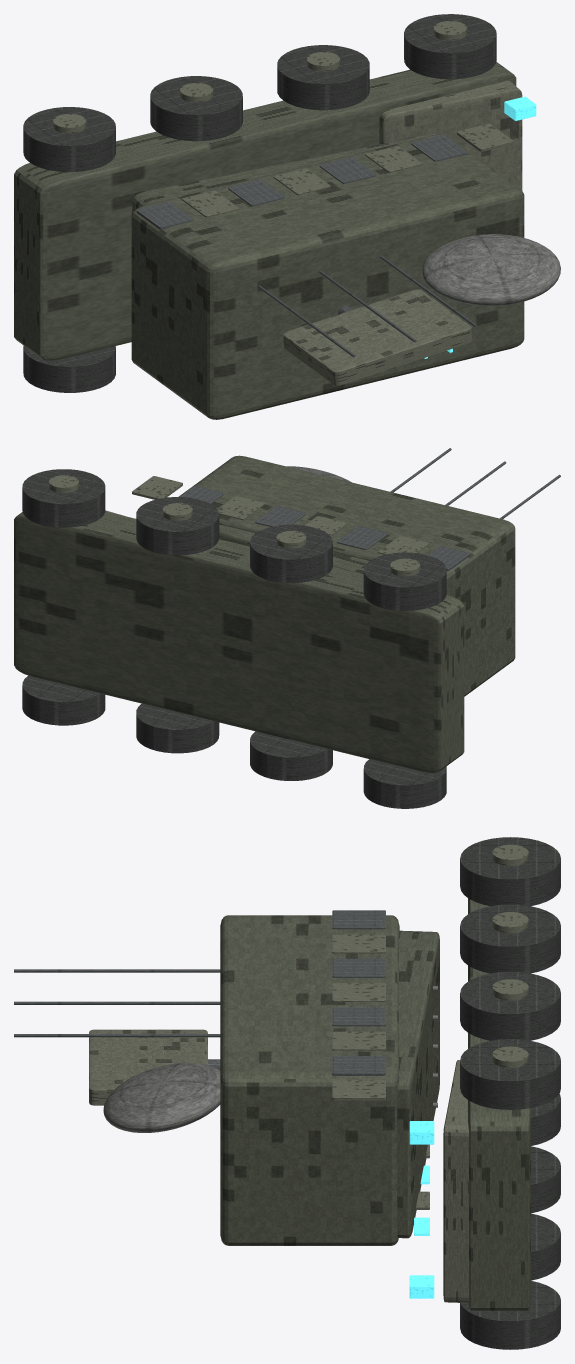
File: v-u21-vanguard-command-vehicle-lod0.glb
The picture shows the model from 3 angles, top to bottom: view 1: azimuth 30°, elevation 25°; view 2: azimuth 150°, elevation 25°; view 3: azimuth 270°, elevation 25°; orthographic projection. The views are drawn at different scales.
Visible parts, largest first — view 1: command_body, chassis_lower, command_array_array, command_dish, chassis_nose, chassis_wheel_1_3, chassis_wheel_1_2, chassis_wheel_1_1, chassis_wheel_1_0, chassis_wheel_-1_0, upper_hull, service_hatch_7 (+12 smaller); view 2: chassis_lower, command_body, chassis_wheel_1_0, chassis_wheel_1_2, chassis_wheel_1_3, chassis_wheel_1_1, chassis_wheel_-1_0, chassis_wheel_-1_2, chassis_wheel_-1_3, chassis_wheel_-1_1, upper_hull, service_hatch_7 (+10 smaller); view 3: command_body, chassis_lower, upper_hull, command_dish, chassis_wheel_1_3, chassis_wheel_1_2, chassis_wheel_1_1, chassis_wheel_1_0, chassis_nose, command_array_array, chassis_wheel_-1_3, chassis_wheel_-1_1 (+17 smaller).
Part boxes in pixels (box(x1,y1,x2,y2)): command_body: box(131, 134, 524, 419); chassis_lower: box(14, 62, 516, 360); command_array_array: box(283, 289, 472, 385); command_dish: box(422, 234, 560, 305); chassis_nose: box(379, 80, 522, 190); chassis_wheel_1_3: box(404, 14, 496, 79); chassis_wheel_1_2: box(277, 45, 369, 110); chassis_wheel_1_1: box(150, 76, 242, 141); chassis_wheel_1_0: box(23, 107, 115, 172); chassis_wheel_-1_0: box(23, 345, 115, 392); upper_hull: box(132, 135, 430, 212); service_hatch_7: box(457, 123, 513, 151); chassis_lower: box(14, 511, 464, 773); command_body: box(178, 455, 515, 696); chassis_wheel_1_0: box(363, 552, 446, 610); chassis_wheel_1_2: box(136, 497, 219, 555); chassis_wheel_1_3: box(22, 469, 105, 527); chassis_wheel_1_1: box(250, 524, 332, 582); chassis_wheel_-1_0: box(363, 759, 446, 808); chassis_wheel_-1_2: box(136, 703, 219, 753); chassis_wheel_-1_3: box(22, 675, 105, 725); chassis_wheel_-1_1: box(250, 731, 332, 780); upper_hull: box(219, 524, 368, 574); service_hatch_7: box(132, 476, 182, 499); command_body: box(220, 915, 399, 1245); chassis_lower: box(468, 898, 530, 1310); upper_hull: box(397, 930, 439, 1238); command_dish: box(103, 1063, 220, 1132); chassis_wheel_1_3: box(460, 1039, 560, 1109); chassis_wheel_1_2: box(460, 971, 560, 1040); chassis_wheel_1_1: box(460, 904, 560, 973); chassis_wheel_1_0: box(460, 837, 560, 906); chassis_nose: box(443, 1060, 468, 1303); command_array_array: box(89, 1029, 207, 1105); chassis_wheel_-1_3: box(460, 1281, 560, 1349); chassis_wheel_-1_1: box(531, 1146, 560, 1213).
Size of what is drawn, in the model's own units: 6.59 by 3.42 by 6.04.
Materials: 7 (7 with a texture image).
